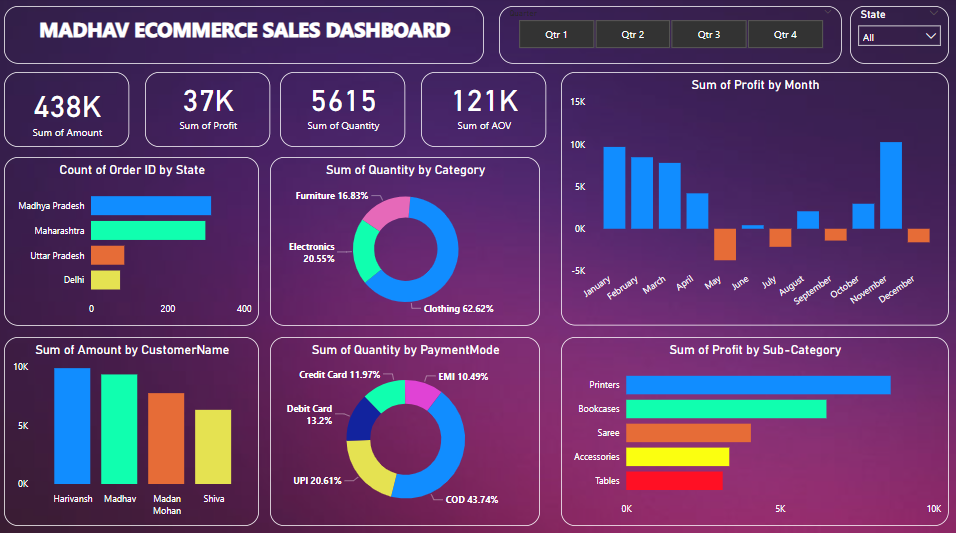

The dashboard page shown, as its layout file describes it:
{"tool":"powerbi","page":{"name":"Page 1","canvas":[1280,720],"ordinal":0},"visuals":[{"type":"columnChart","fields":{"Y":["Details.Profit"],"Category":["Orders (2).Order Date.Variation.Date Hierarchy.Month"]},"box":[748.3,100,516.7,338.3],"z":0},{"type":"barChart","fields":{"Category":["Details.Sub-Category"],"Y":["Details.Profit"]},"box":[748.3,453.3,516.7,251.7],"z":1000},{"type":"donutChart","fields":{"Category":["Details.Category"],"Y":["Details.Quantity"]},"box":[360,213.3,360,225],"z":2000},{"type":"textbox","box":[5,11.7,640,76.7],"z":3000},{"type":"card","fields":{"Values":["Details.Amount"]},"box":[5,100,166.7,100],"z":4000},{"type":"donutChart","fields":{"Category":["Details.PaymentMode"],"Y":["Details.Quantity"]},"box":[360,453.3,360,251.7],"z":5000},{"type":"card","fields":{"Values":["Details.Profit"]},"box":[193.3,100,166.7,100],"z":6000},{"type":"card","fields":{"Values":["Details.Quantity"]},"box":[373.3,100,166.7,100],"z":7000},{"type":"card","fields":{"Values":["Details.AOV"]},"box":[561.7,100,166.7,100],"z":8000},{"type":"barChart","fields":{"Category":["Orders (2).State"],"Y":["Details.Order ID"]},"box":[5,213.3,340,225],"z":9000},{"type":"columnChart","fields":{"Category":["Orders (2).CustomerName"],"Y":["Details.Amount"]},"box":[5,453,340,252],"z":10000},{"type":"slicer","fields":{"Values":["Orders (2).Order Date.Variation.Date Hierarchy.Quarter"]},"box":[665,11.7,456.7,76.7],"z":11000},{"type":"slicer","fields":{"Values":["Orders (2).State"]},"box":[1133.3,11.7,131.7,76.7],"z":11001}]}

Visuals, with their boxes in screenshot pixels (x1, y1, x2, y2), scaled from the page's 1280x720 canvas onto the 956x533 screenshot:
columnChart - Details.Profit x Orders (2).Order Date.Variation.Date Hierarchy.Month: [559,74,945,324]
barChart - Details.Sub-Category x Details.Profit: [559,336,945,522]
donutChart - Details.Category x Details.Quantity: [269,158,538,324]
textbox: [4,9,482,65]
card - Details.Amount: [4,74,128,148]
donutChart - Details.PaymentMode x Details.Quantity: [269,336,538,522]
card - Details.Profit: [144,74,269,148]
card - Details.Quantity: [279,74,403,148]
card - Details.AOV: [420,74,544,148]
barChart - Orders (2).State x Details.Order ID: [4,158,258,324]
columnChart - Orders (2).CustomerName x Details.Amount: [4,335,258,522]
slicer - Orders (2).Order Date.Variation.Date Hierarchy.Quarter: [497,9,838,65]
slicer - Orders (2).State: [846,9,945,65]
